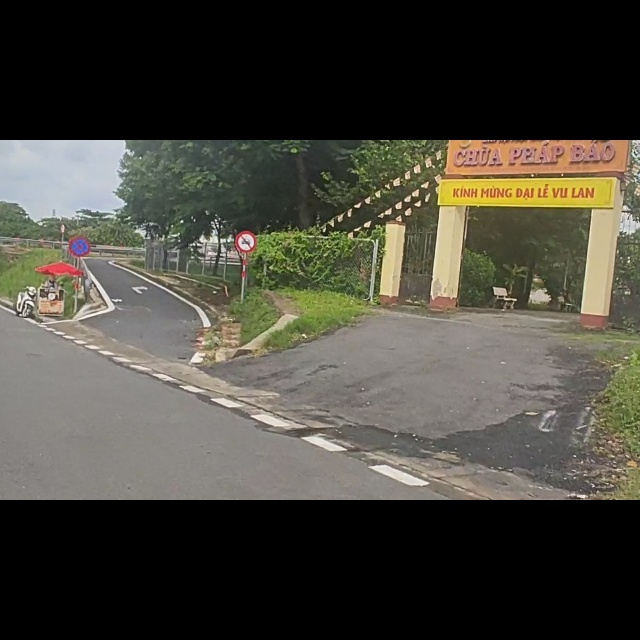bien_cam: (235, 160, 257, 201), (69, 173, 91, 210)
